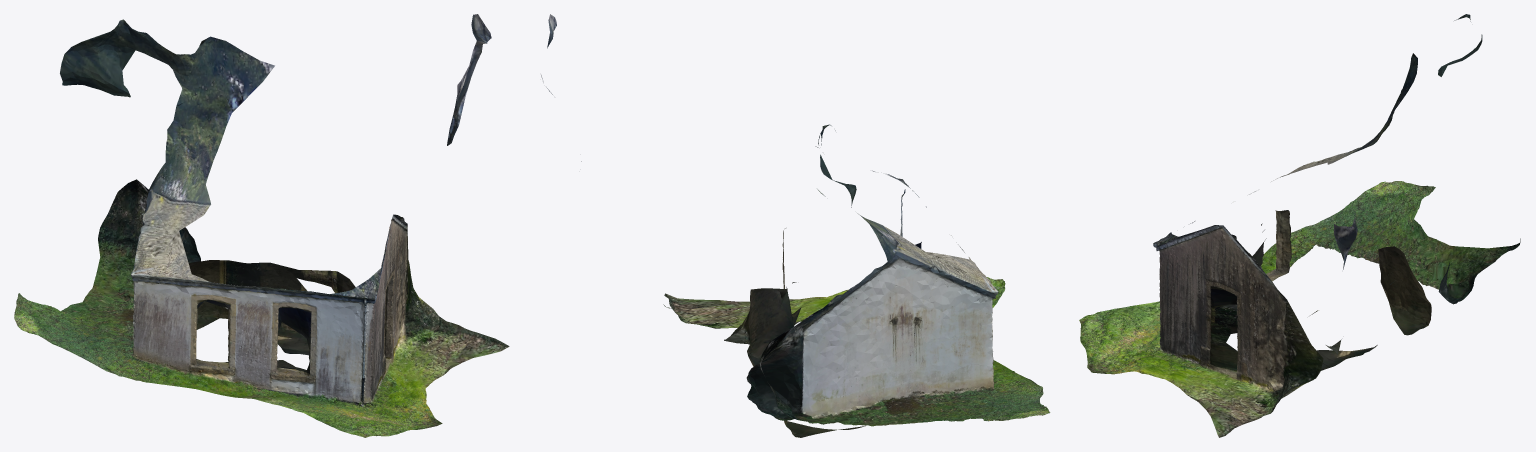
The picture shows the model from 3 angles, left to right: view 1: azimuth 30°, elevation 25°; view 2: azimuth 150°, elevation 25°; view 3: azimuth 270°, elevation 25°; orthographic projection. The views are drawn at different scales.
Size of the model in its own units: 3.67 by 2.35 by 3.16.
Materials: 1 (1 with a texture image).
